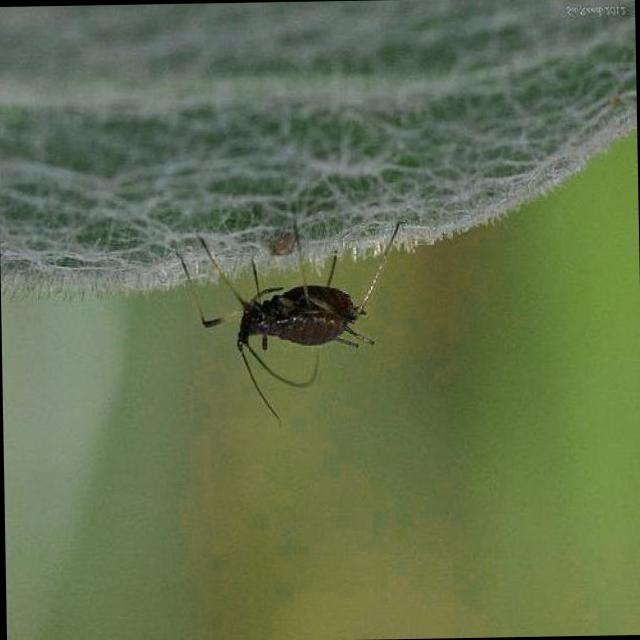aphid: (216, 247, 391, 401)
